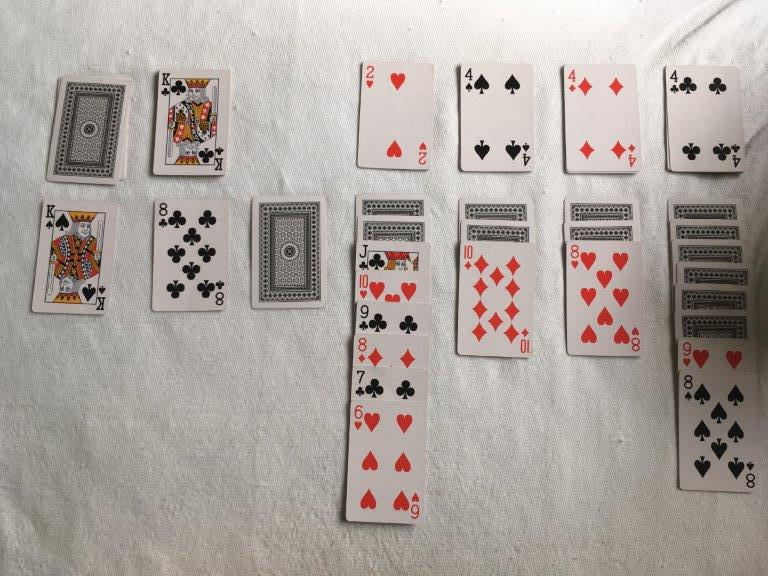10D: (461, 241, 476, 271)
10H: (357, 270, 371, 300)
2H: (364, 62, 378, 91)
4C: (668, 67, 681, 95)
4D: (566, 66, 579, 96)
4S: (462, 64, 478, 95)
6H: (352, 400, 366, 433)
7C: (353, 364, 368, 396)
8C: (158, 199, 171, 229)
8D: (355, 333, 370, 363)
8H: (567, 241, 582, 270)
8S: (681, 371, 697, 405)
9C: (357, 301, 371, 332)
9H: (678, 338, 693, 370)
BACK: (46, 75, 131, 185), (251, 195, 328, 309), (674, 308, 755, 337), (675, 283, 754, 309), (356, 214, 431, 240), (677, 260, 755, 284), (669, 218, 747, 240), (565, 197, 639, 220), (461, 218, 535, 241), (672, 239, 748, 261), (459, 197, 533, 219), (355, 194, 430, 215), (667, 198, 743, 218), (564, 220, 640, 239)
JC: (357, 241, 370, 269)
KC: (159, 69, 174, 99)
KS: (43, 202, 57, 231)
